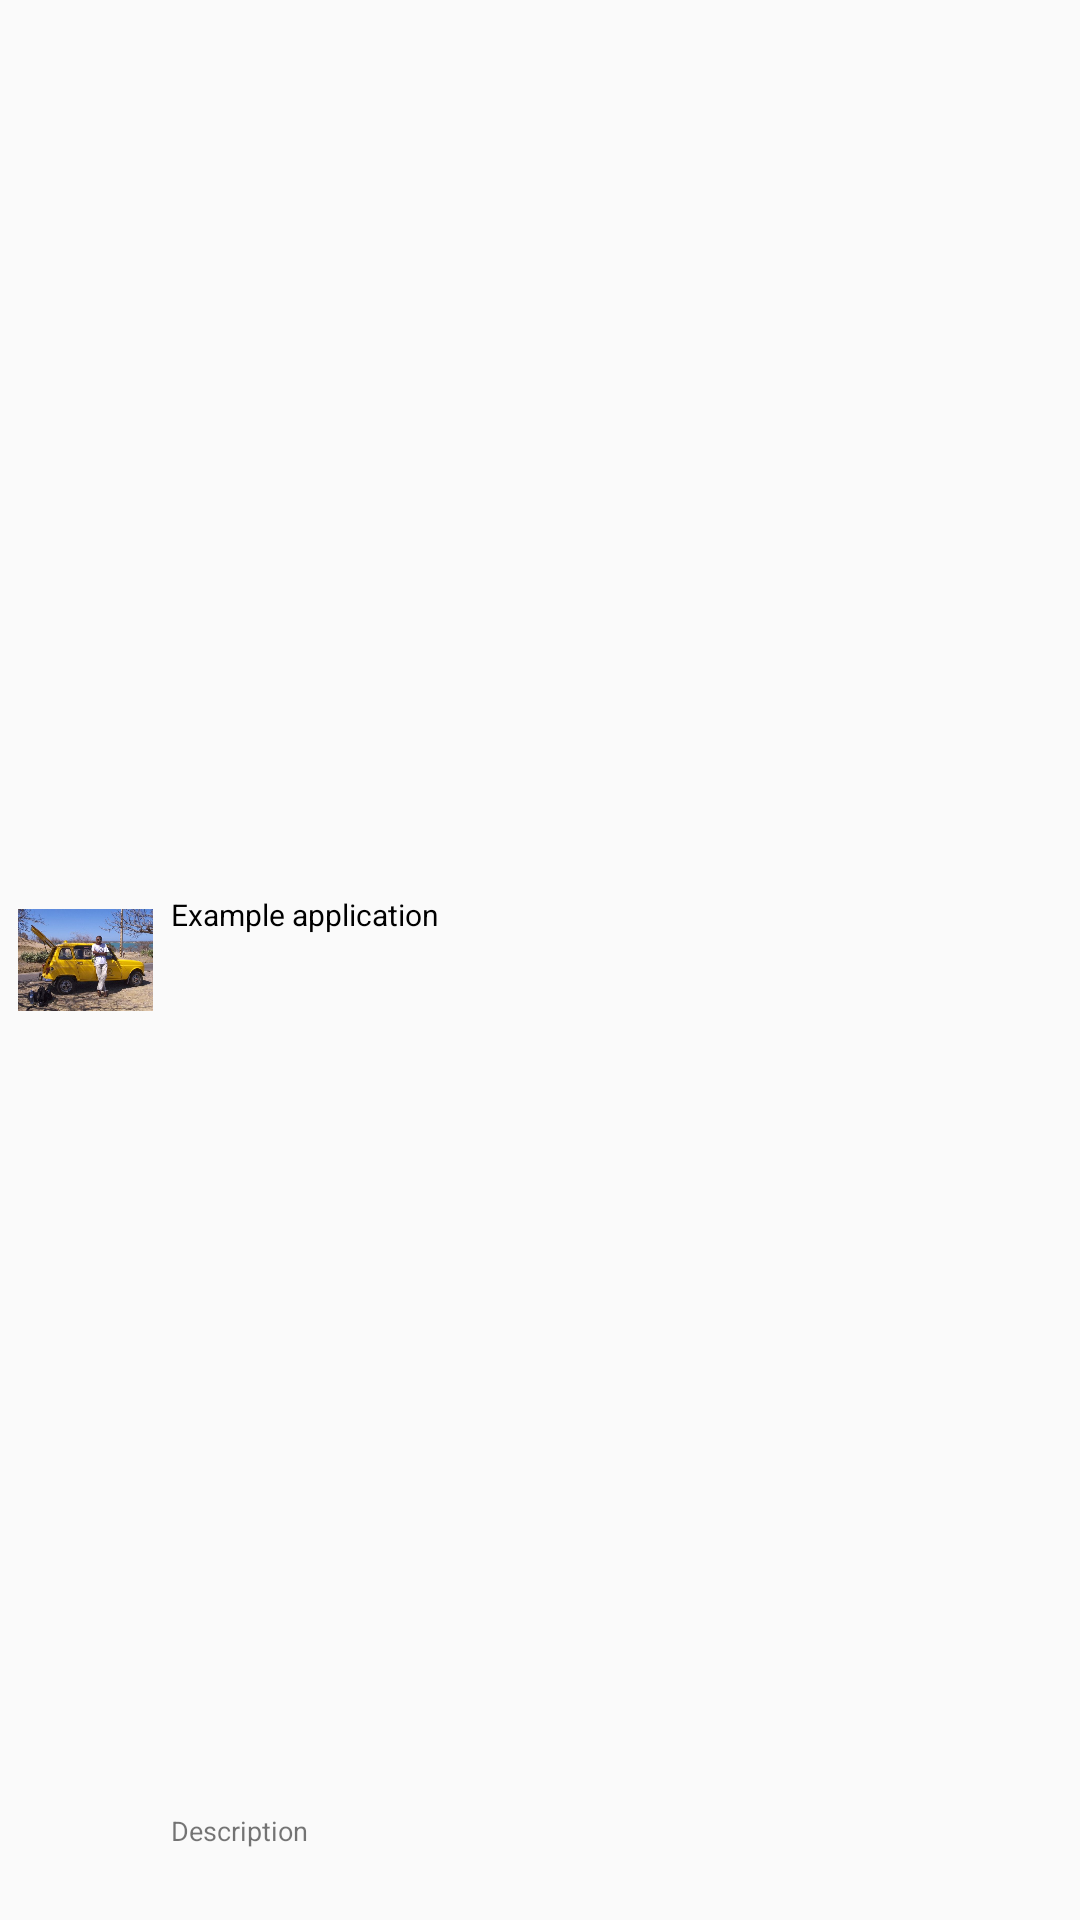

Screen size 1080*1920. Icon name, then its box in pixels as {"left": x1, "top": y1, "right": x2, "bottom": y2}:
taxi: {"left": 18, "top": 909, "right": 153, "bottom": 1011}
